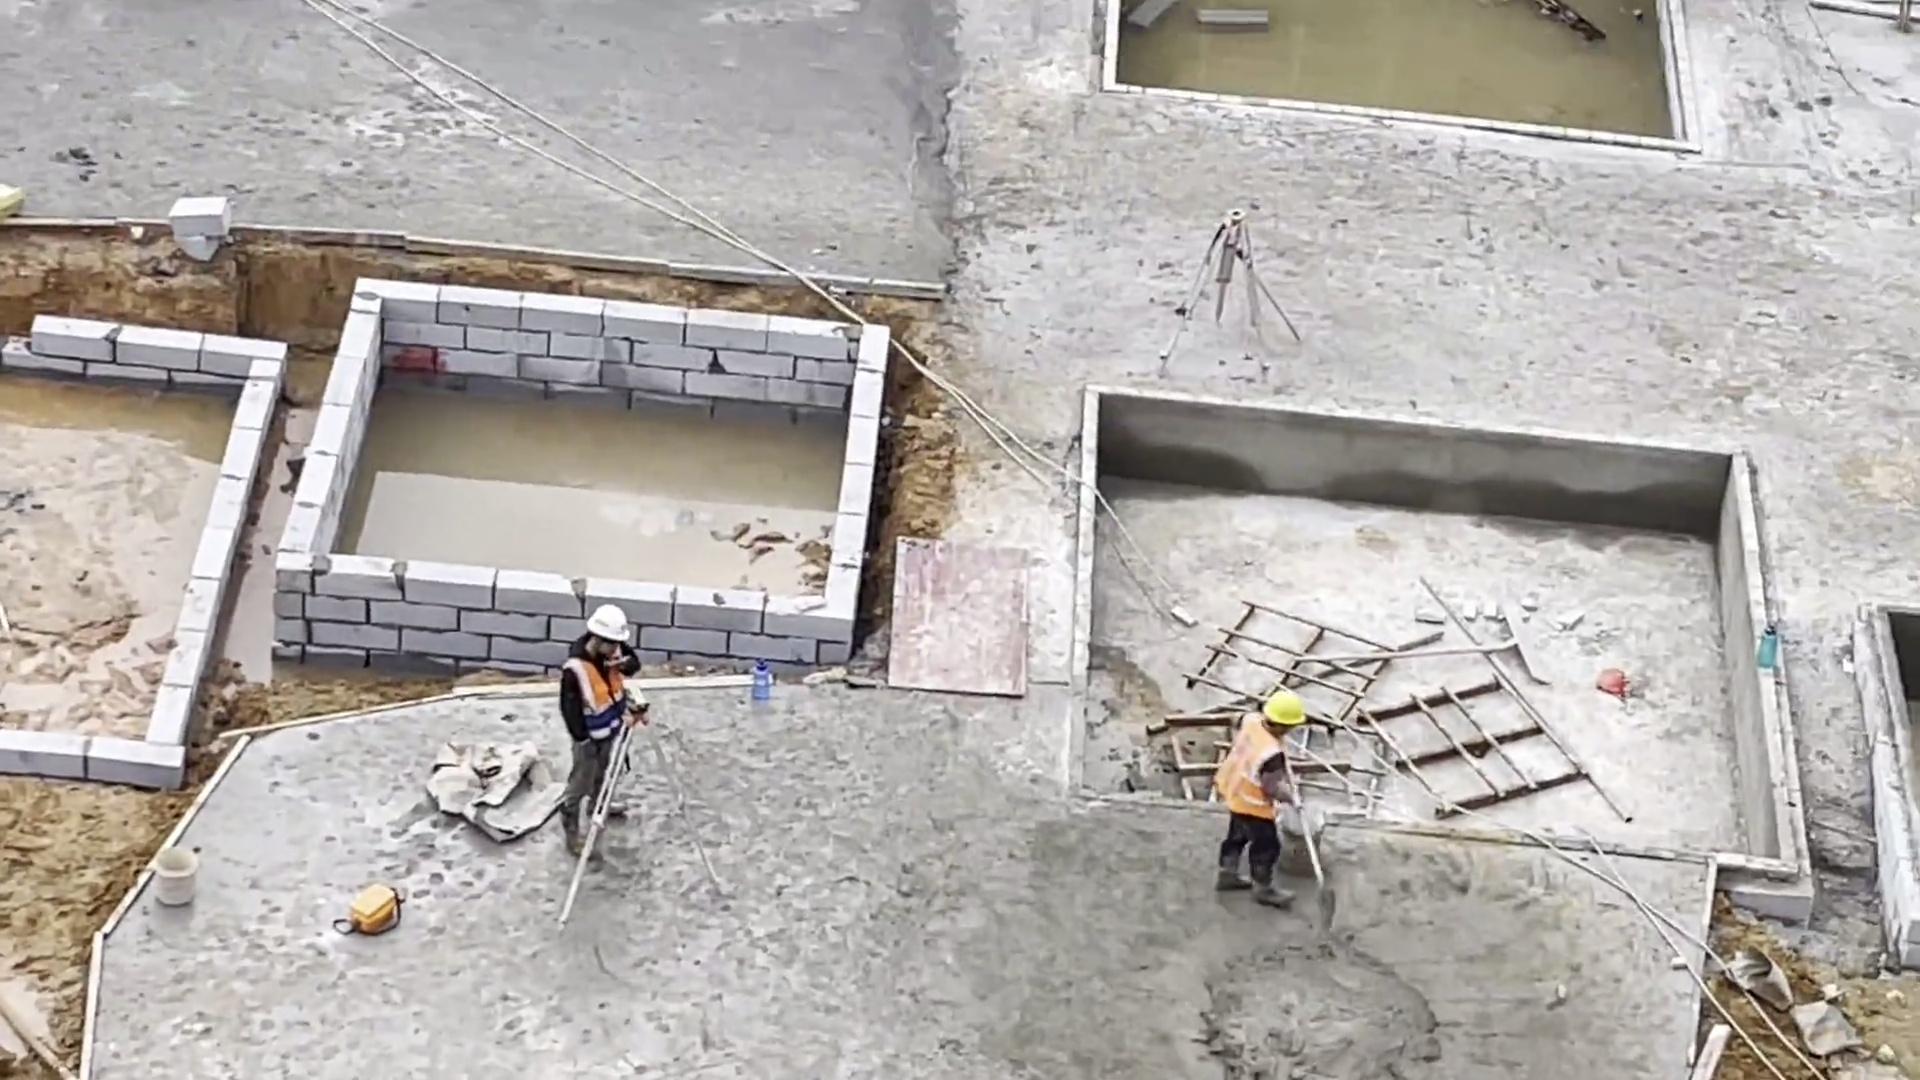brick: (276, 548, 844, 661), (382, 288, 839, 412), (152, 355, 265, 752), (275, 286, 371, 558), (826, 328, 879, 628), (16, 318, 265, 382), (2, 730, 177, 775)
helmet: (1260, 686, 1306, 729), (589, 602, 629, 646)
person: (1207, 688, 1304, 908), (561, 604, 636, 859)
vest: (1221, 714, 1276, 816), (569, 651, 631, 730)
